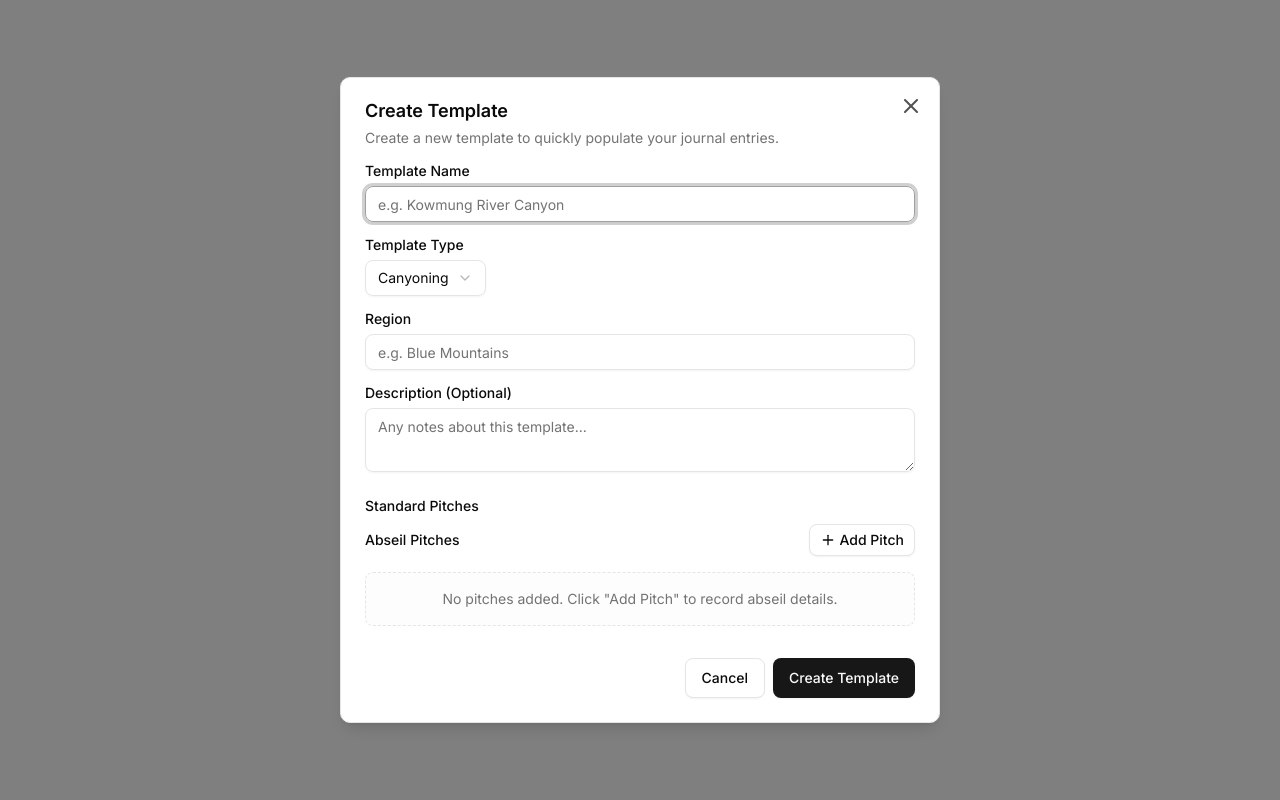
Test: CreateTemplateDialog › shows validation error if name is empty
The image size is (1280, 800).
Click the button "Create Template" at (844, 678), box [773, 658, 915, 698]
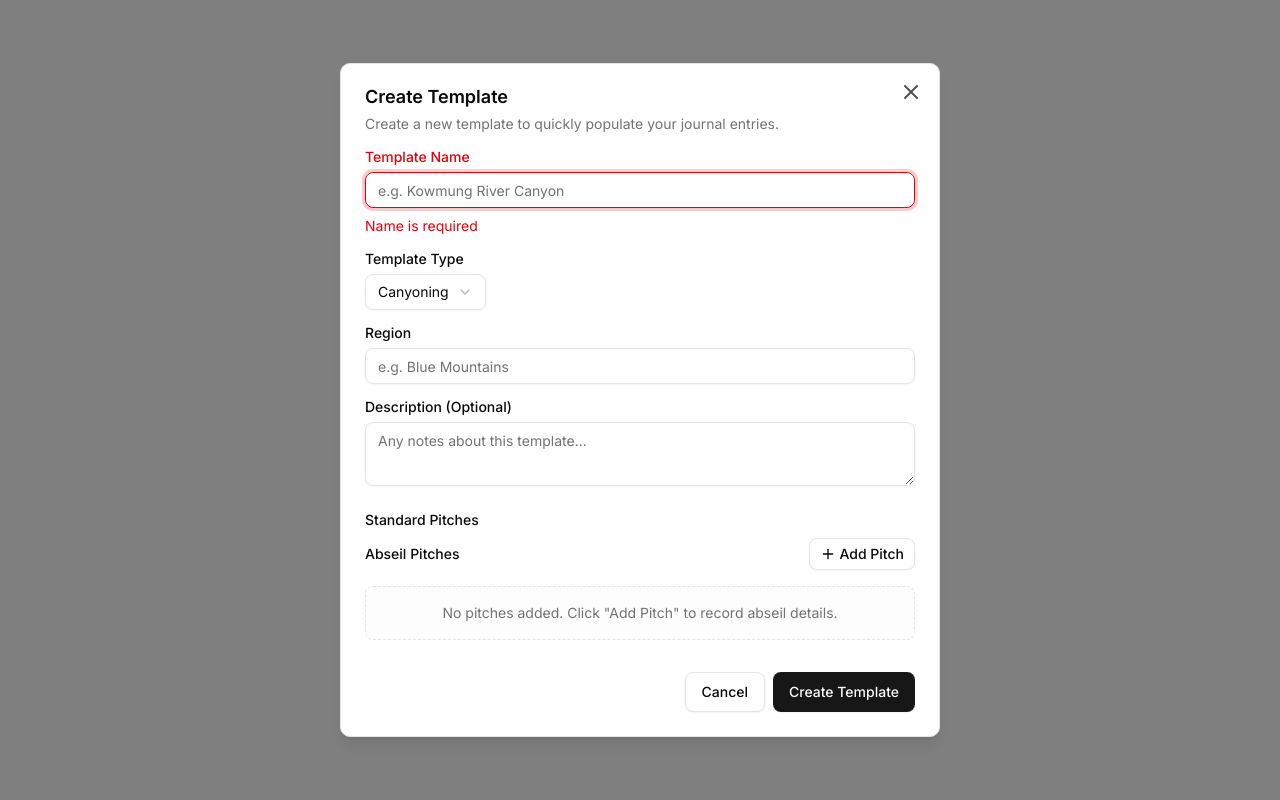
Expected: the text "Name is required" is shown, [365, 217, 478, 234]
